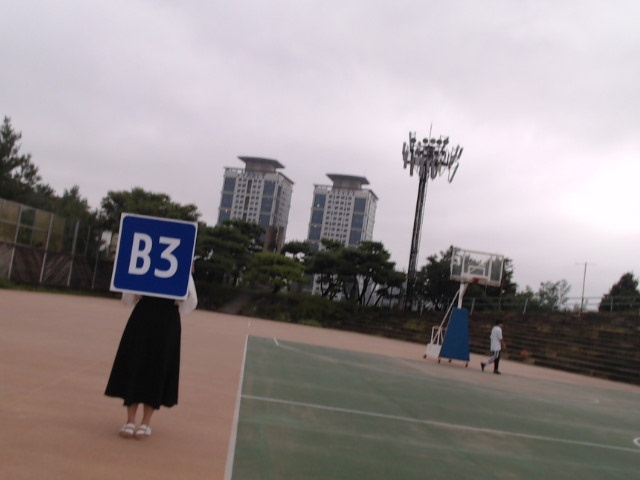delivery_b3: (111, 213, 197, 299)
